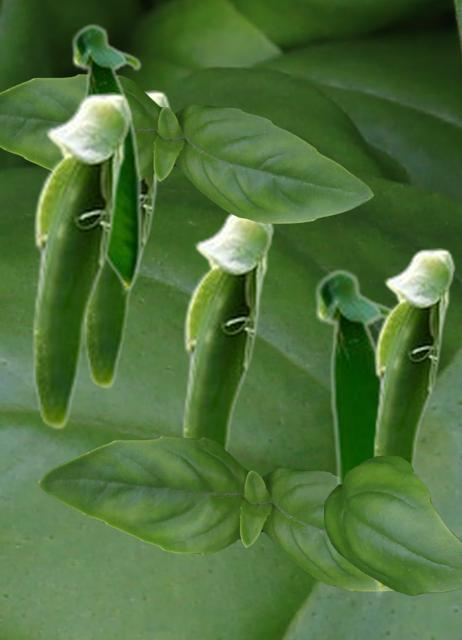pea: (31, 92, 132, 429), (82, 90, 171, 388), (313, 267, 391, 597), (181, 212, 274, 454), (70, 22, 142, 295), (372, 248, 455, 473)
